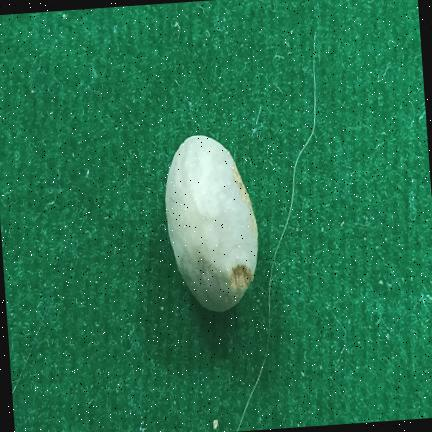cut: (165, 135, 257, 311)
